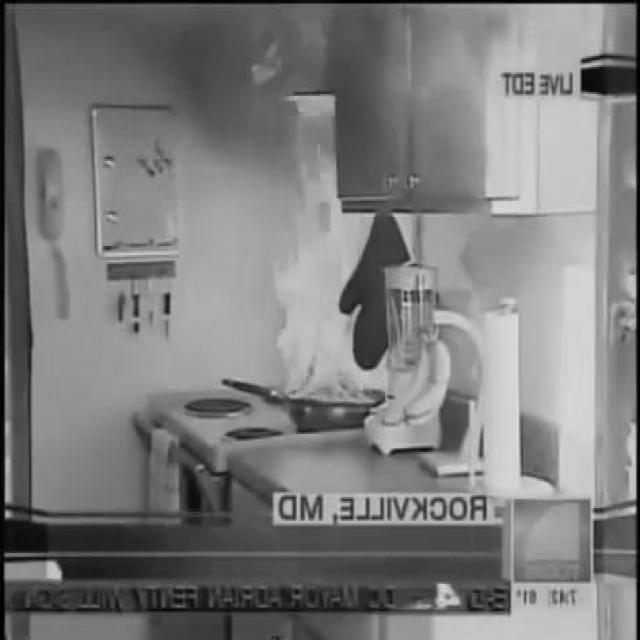fire: (369, 4, 634, 210)
smoke: (264, 95, 420, 404)
